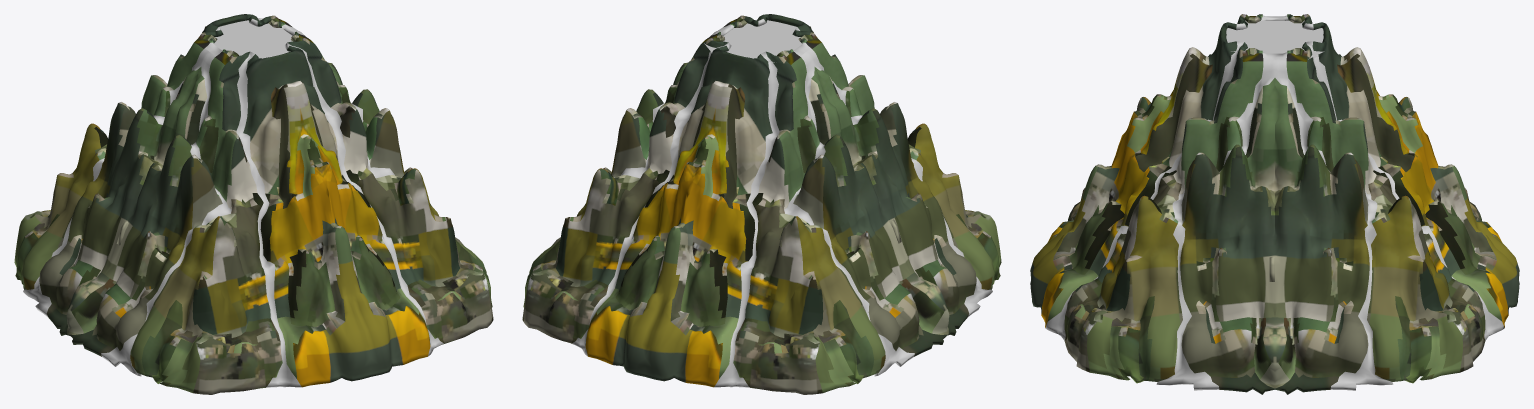
Rendered from LavaMount(Crater).fbx.
3 renders of one model, left to right at view 1: azimuth 30°, elevation 25°; view 2: azimuth 150°, elevation 25°; view 3: azimuth 270°, elevation 25°, orthographic. The views are drawn at different scales.
Parts seen in each view (by area): view 1: Mount(crater); view 2: Mount(crater); view 3: Mount(crater).
Boxes of the visible parts, left/top/right/bottom form: Mount(crater): left=14, top=14, right=493, bottom=394; Mount(crater): left=522, top=14, right=1001, bottom=394; Mount(crater): left=1030, top=14, right=1519, bottom=394.
Bounding box in the file's own units: 10744 × 7071 × 11666.
